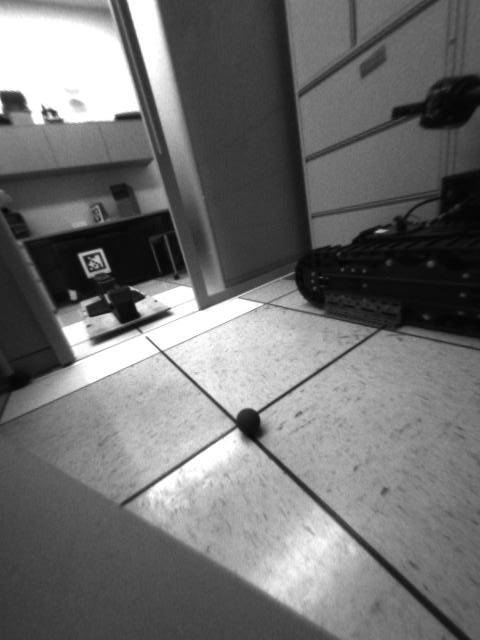dogtoy: (225, 401, 271, 443)
